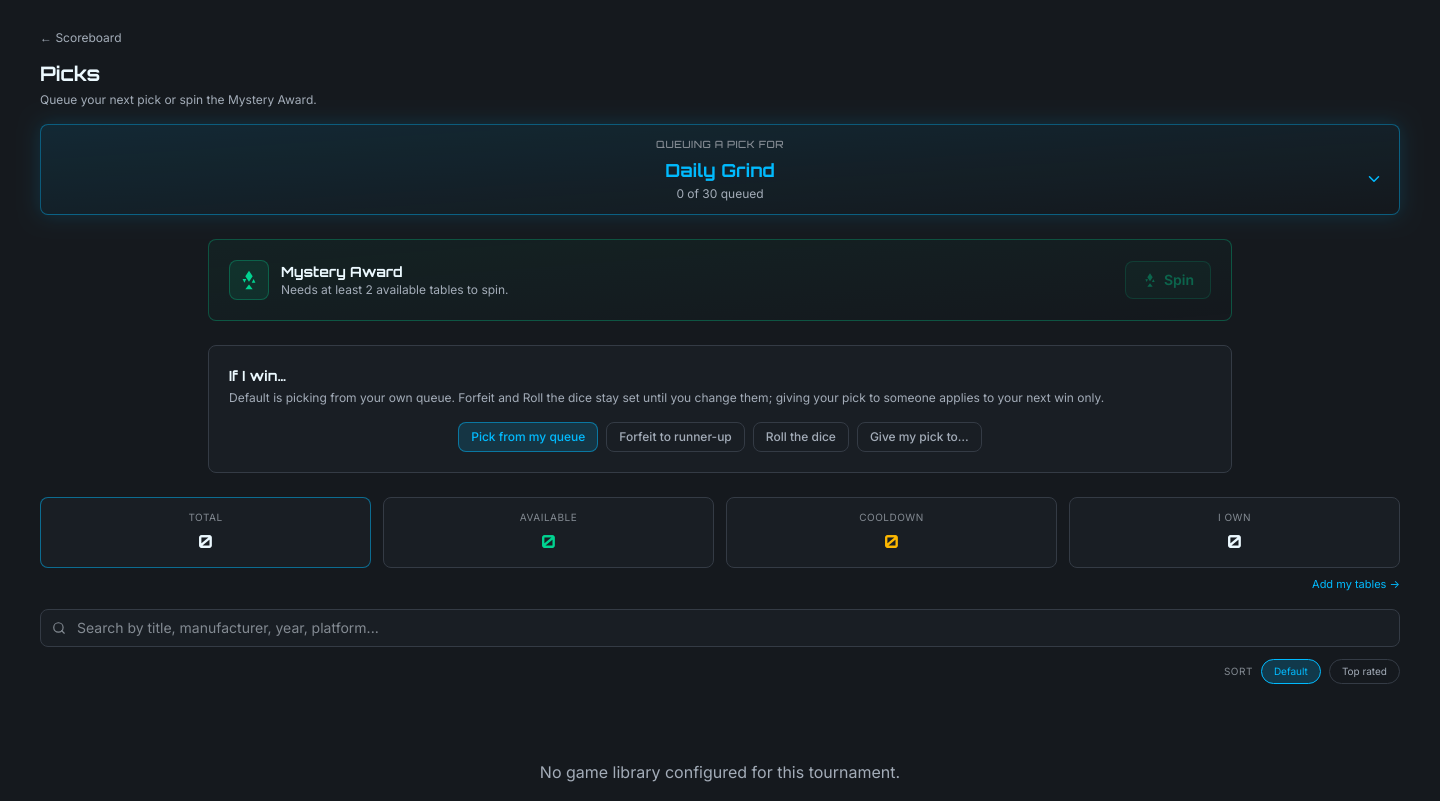
Test: Picks page — next-win disposition control › member roster fetch failure degrades to free-text-only, no error chrome
Click the button "Give my pick to…" at (919,437), box [857,422,982,452]
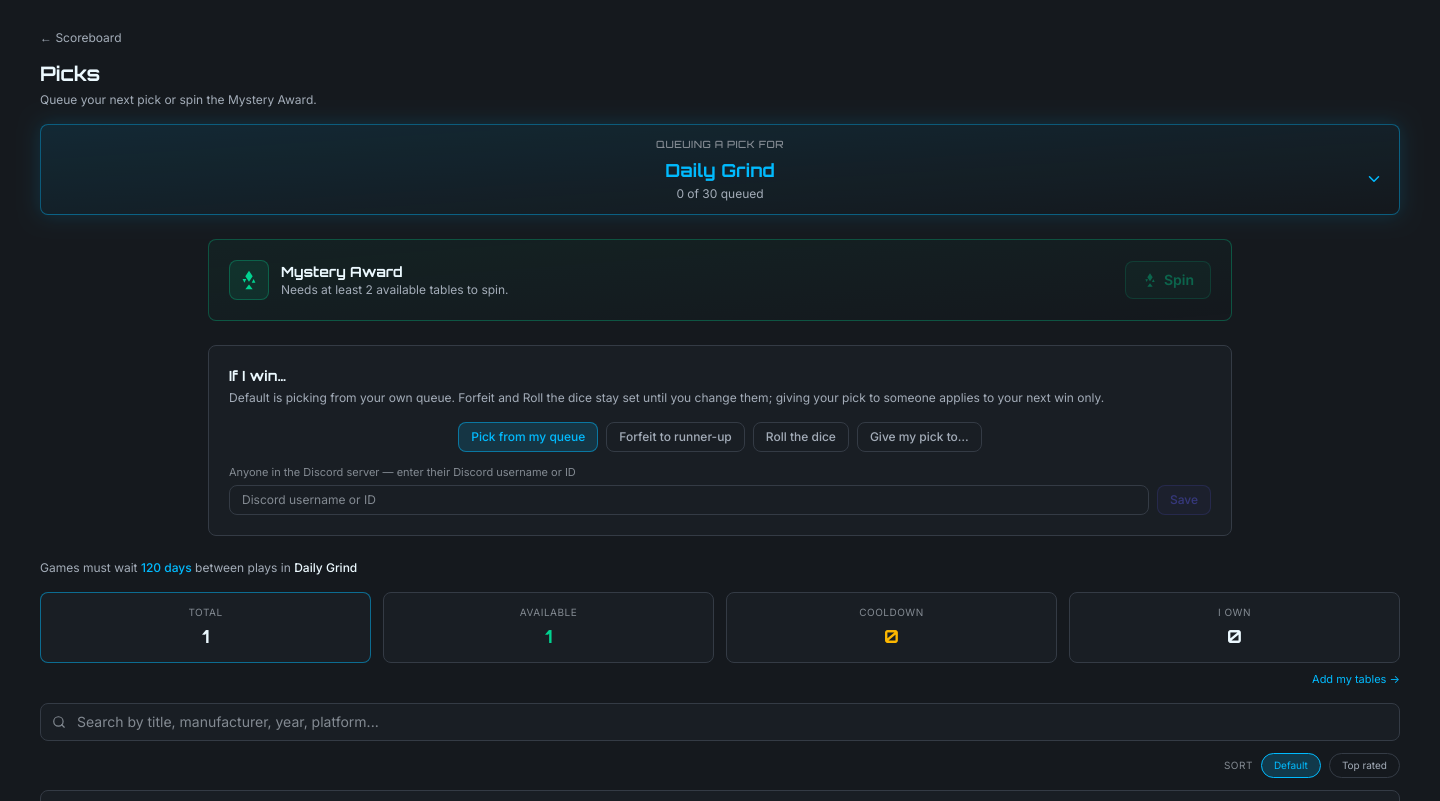
Expected: the field named "Nominee Discord username or ID" is shown, [229,484,1149,514]
